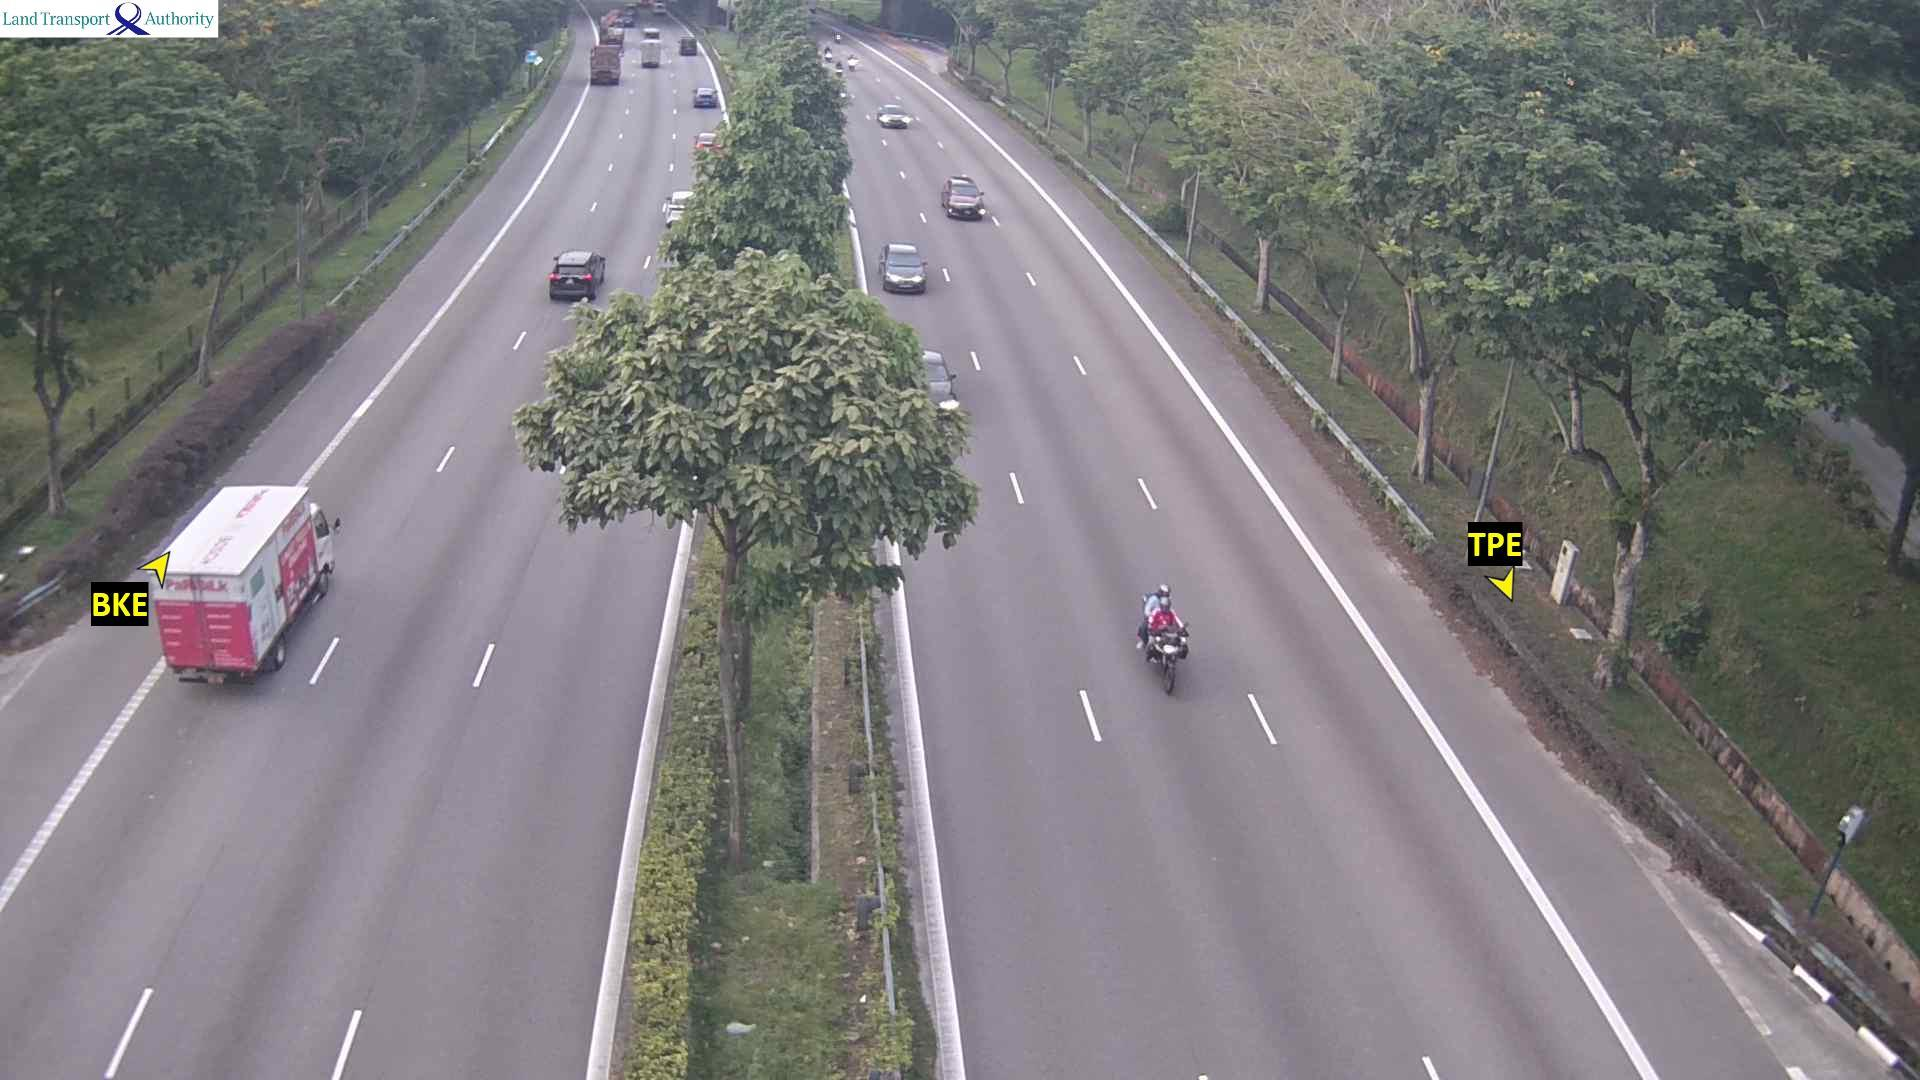incoming: (884, 246, 927, 292), (943, 182, 986, 218), (1157, 640, 1185, 695), (879, 105, 913, 129)
